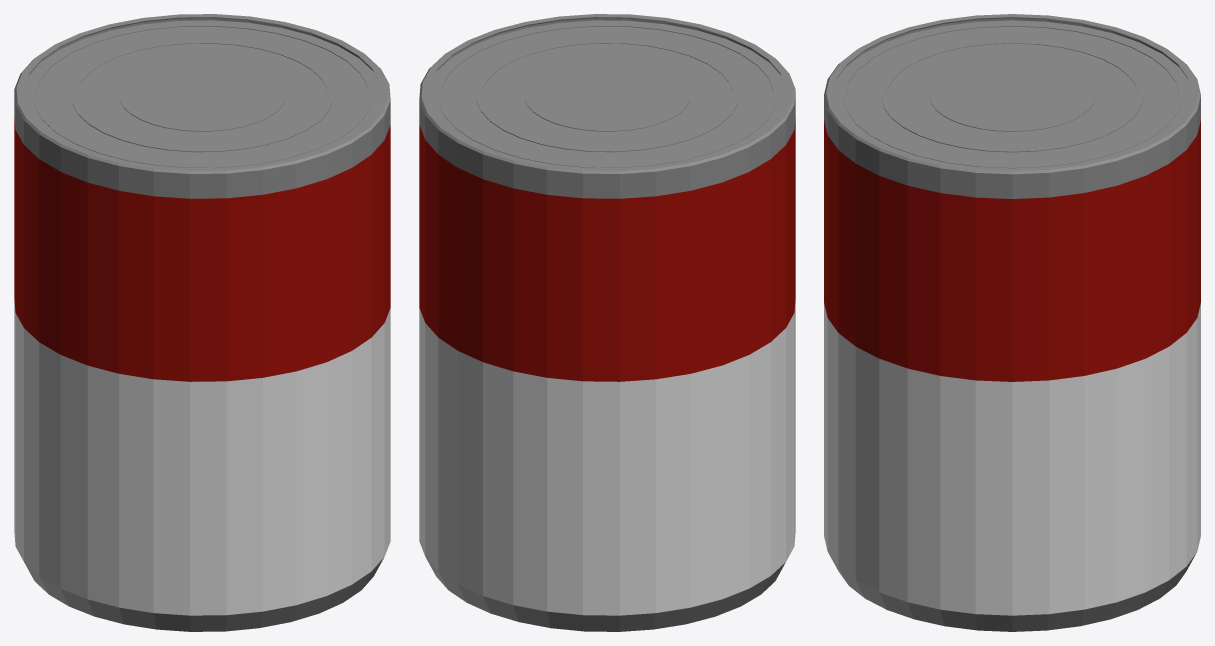
The model's file is soup_can.fbx.
3 renders of one model, left to right at view 1: azimuth 30°, elevation 25°; view 2: azimuth 150°, elevation 25°; view 3: azimuth 270°, elevation 25°, orthographic.
Visible parts, largest first — view 1: soup; view 2: soup; view 3: soup.
Boxes of the visible parts, x1,y1,x2,y2 form: soup: (14,14,390,631); soup: (419,14,795,631); soup: (824,14,1200,631).
Size of the model in its own units: 87.24 by 119 by 87.24.
